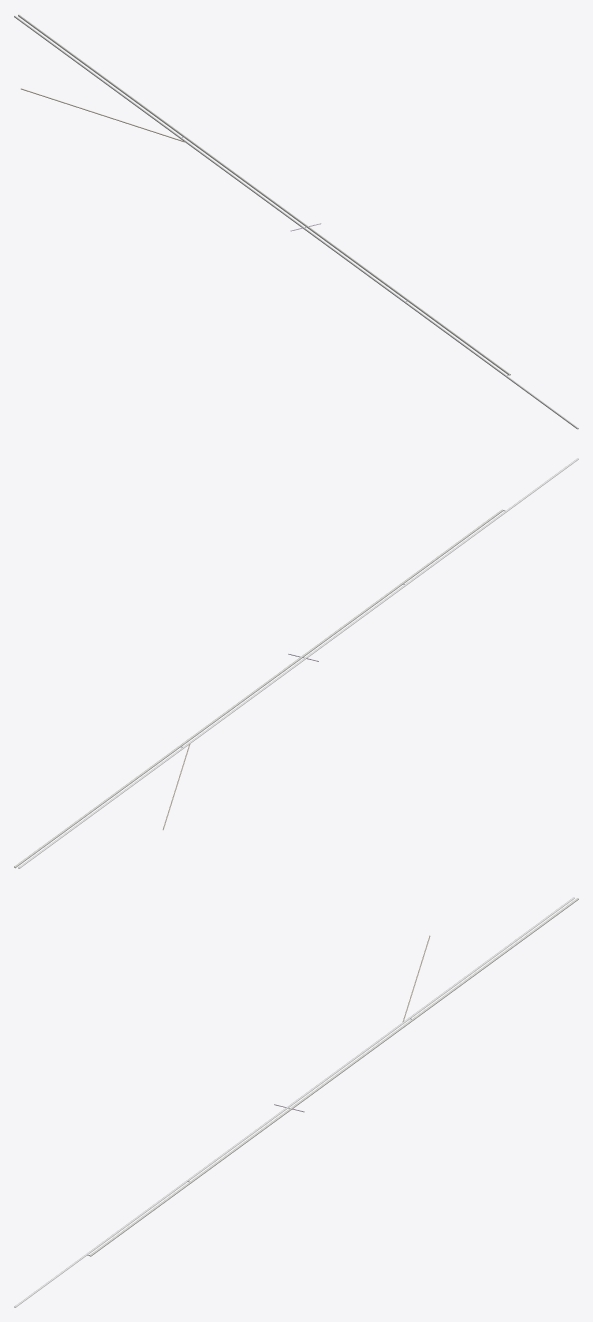
File: tunnel-assembled.glb
3 views of the same model, one above another, from view 1: azimuth 30°, elevation 25°; view 2: azimuth 150°, elevation 25°; view 3: azimuth 330°, elevation 25° (orthographic).
Bounding box in the file's own units: 697 × 12.58 × 7800.
